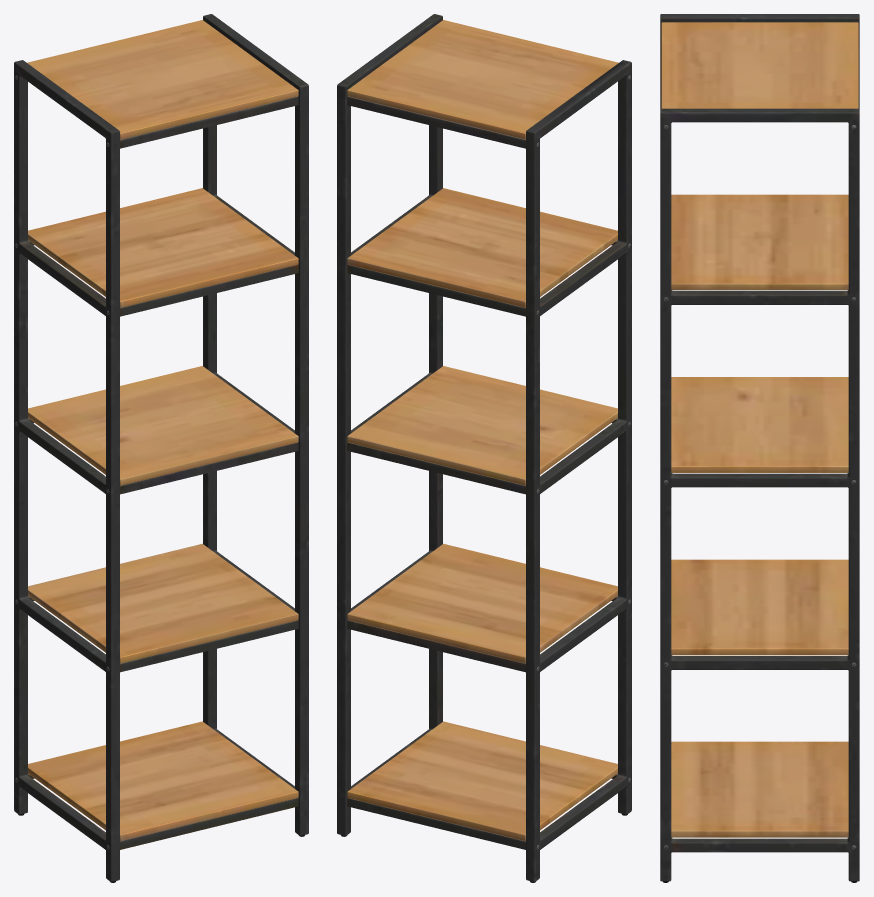
Rendered from steel_shelves.glb.
3 renders of one model, left to right at view 1: azimuth 30°, elevation 25°; view 2: azimuth 150°, elevation 25°; view 3: azimuth 270°, elevation 25°, orthographic. The views are drawn at different scales.
Visible parts, largest first — view 1: steel_frame_shelves_02; view 2: steel_frame_shelves_02; view 3: steel_frame_shelves_02.
Part boxes in pixels (x1=…): steel_frame_shelves_02: x1=14, y1=14, x2=308, y2=882; steel_frame_shelves_02: x1=337, y1=14, x2=631, y2=882; steel_frame_shelves_02: x1=660, y1=14, x2=859, y2=882.
Size of the model in its own units: 0.5933 by 2.14 by 0.5022.
1 material, 1 textured.
